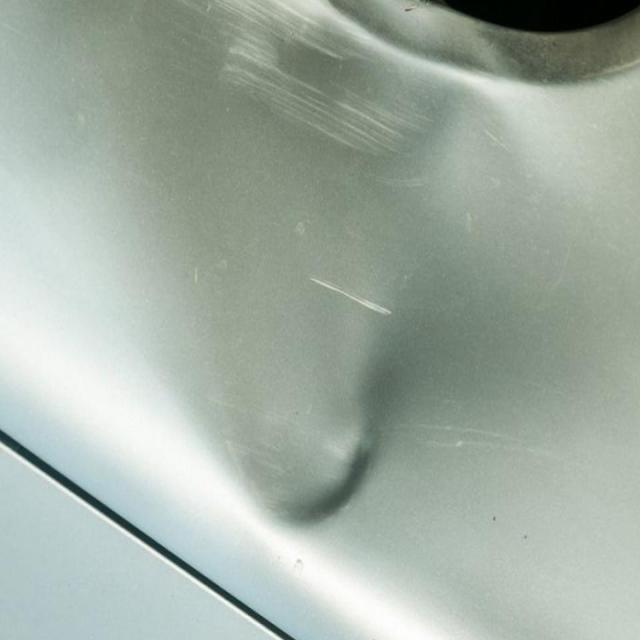dent: (206, 310, 392, 543)
